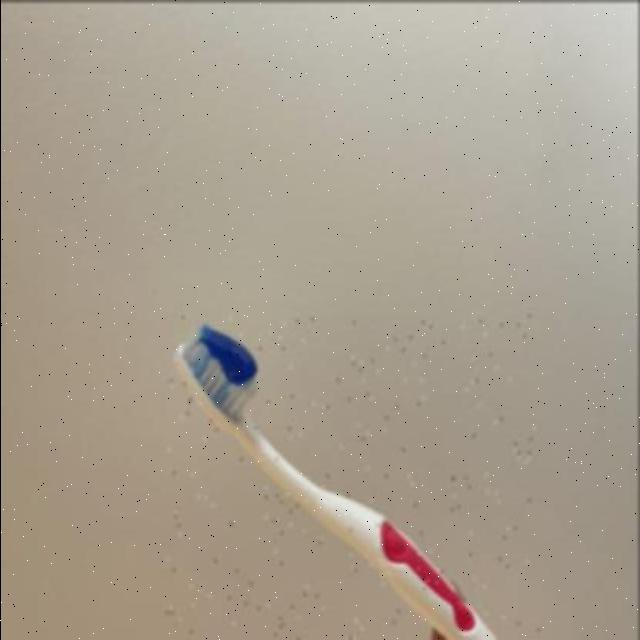toothbrush: (166, 314, 540, 640)
